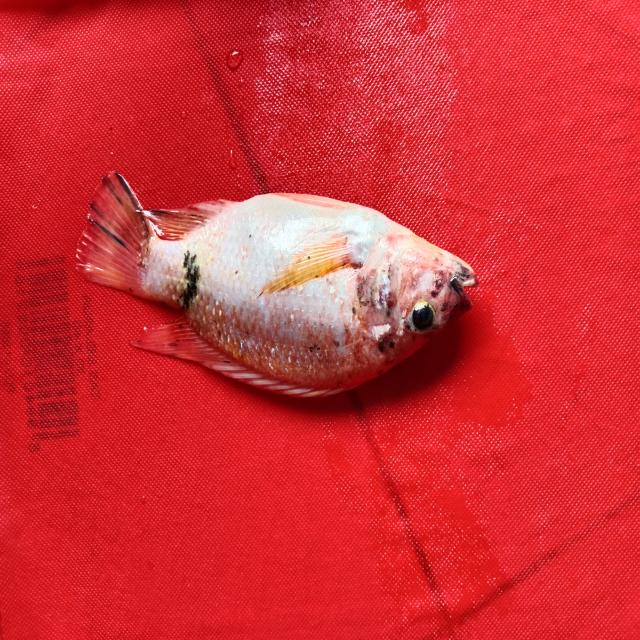ikan: (69, 143, 479, 416)
